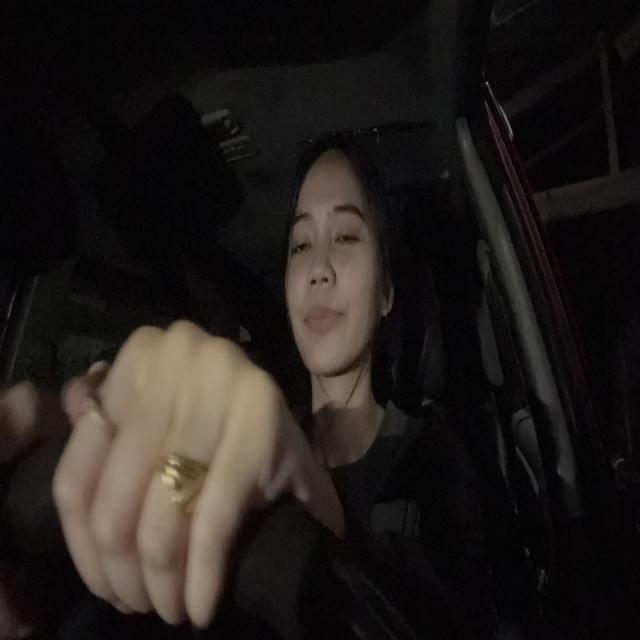open: (329, 197, 371, 256), (292, 199, 318, 257)
